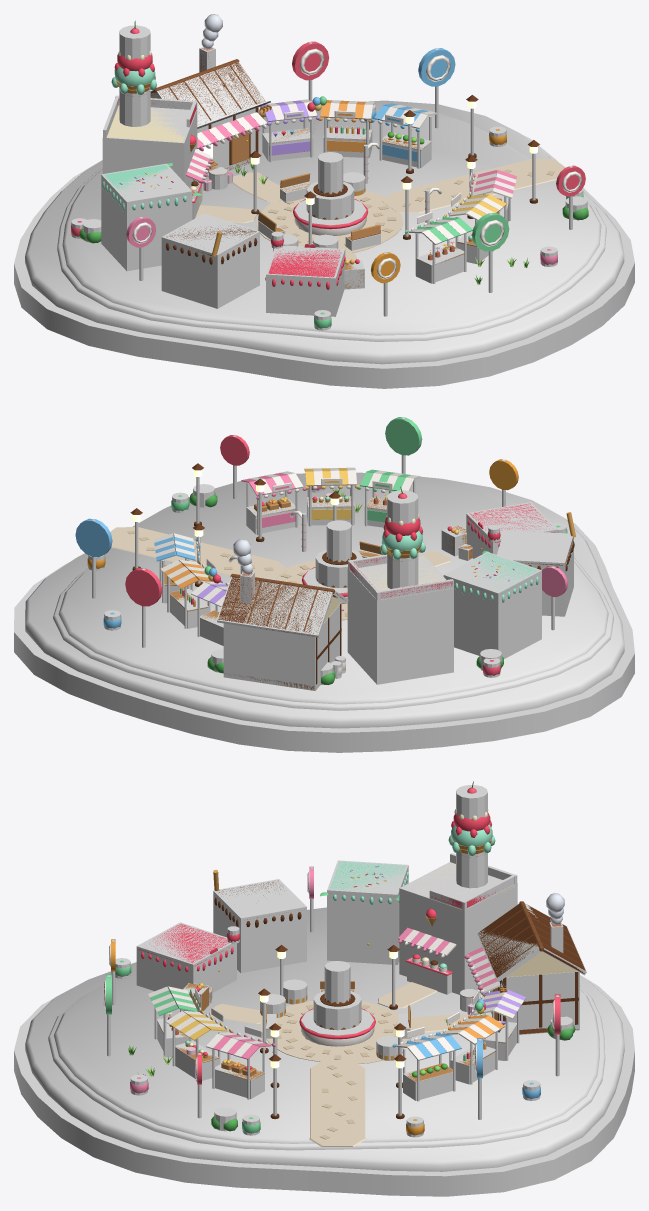
The model's file is vila-doce.glb.
3 views of the same model, one above another, from view 1: azimuth 30°, elevation 25°; view 2: azimuth 150°, elevation 25°; view 3: azimuth 270°, elevation 25° (orthographic). The views are drawn at different scales.
Parts seen in each view (by area): view 1: col-terreno, construcoes, enfeites, feira, terreno, col-casinha-2, col-casinha-3, col-casinha-1, telhados, col-sorveteria-1, col-telhado-padaria-1, col-cil-casquinha-1 (+9 smaller); view 2: col-terreno, col-sorveteria-1, feira, enfeites, col-casinha-3, construcoes, col-padaria-1, col-telhado-padaria-2, terreno, col-casinha-2, telhados, col-casinha-1 (+9 smaller); view 3: col-terreno, construcoes, terreno, feira, col-sorveteria-1, col-casinha-3, col-casinha-2, col-casinha-1, telhados, enfeites, col-padaria-1, col-cil-casquinha-1 (+11 smaller).
Part boxes in pixels (x1,y1,x2,y2): col-terreno: (14, 100, 634, 388); construcoes: (107, 14, 271, 212); enfeites: (71, 41, 588, 328); feira: (260, 96, 516, 265); terreno: (195, 158, 565, 260); col-casinha-2: (161, 213, 259, 308); col-casinha-3: (101, 163, 192, 271); col-casinha-1: (266, 245, 345, 316); telhados: (102, 162, 363, 289); col-sorveteria-1: (102, 107, 197, 187); col-telhado-padaria-1: (155, 62, 266, 128); col-cil-casquinha-1: (119, 25, 150, 126); col-terreno: (14, 472, 634, 752); col-sorveteria-1: (347, 555, 453, 684); feira: (153, 467, 420, 627); enfeites: (75, 417, 567, 684); col-casinha-3: (443, 552, 541, 658); construcoes: (218, 486, 452, 689); col-padaria-1: (223, 602, 341, 690); col-telhado-padaria-2: (217, 576, 333, 637); terreno: (110, 527, 450, 620); col-casinha-2: (497, 530, 573, 616); telhados: (445, 503, 575, 602); col-casinha-1: (466, 502, 557, 558); col-terreno: (14, 907, 634, 1196); construcoes: (398, 781, 585, 1034); terreno: (209, 982, 476, 1146); feira: (148, 986, 525, 1081); col-sorveteria-1: (399, 862, 517, 994); col-casinha-3: (327, 860, 408, 964); col-casinha-2: (213, 879, 306, 972); col-casinha-1: (136, 922, 236, 993); telhados: (138, 861, 408, 1012); enfeites: (103, 866, 574, 1135); col-padaria-1: (484, 971, 579, 1034); col-cil-casquinha-1: (456, 785, 487, 888).
Size of the model in its own units: 29.26 by 11.55 by 28.8.
